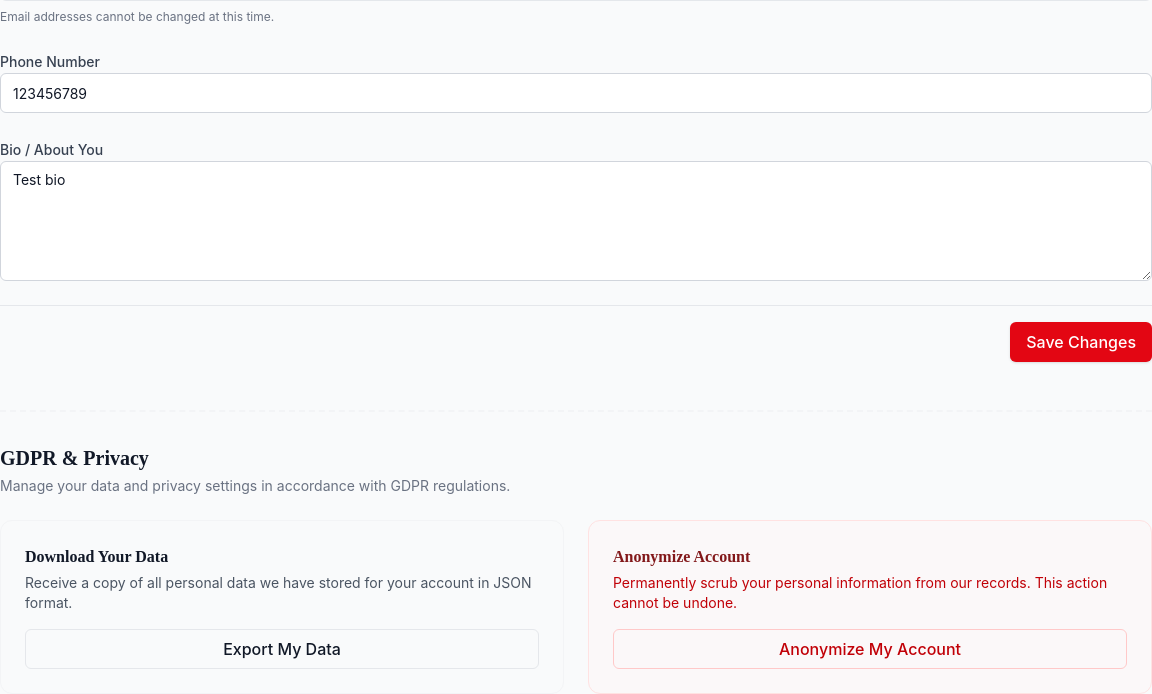
Test case: ProfileForm › should handle GDPR anonymization error
(page scrolled)
Click the button "Anonymize My Account" at x=870, y=649, box [613,629,1127,669]
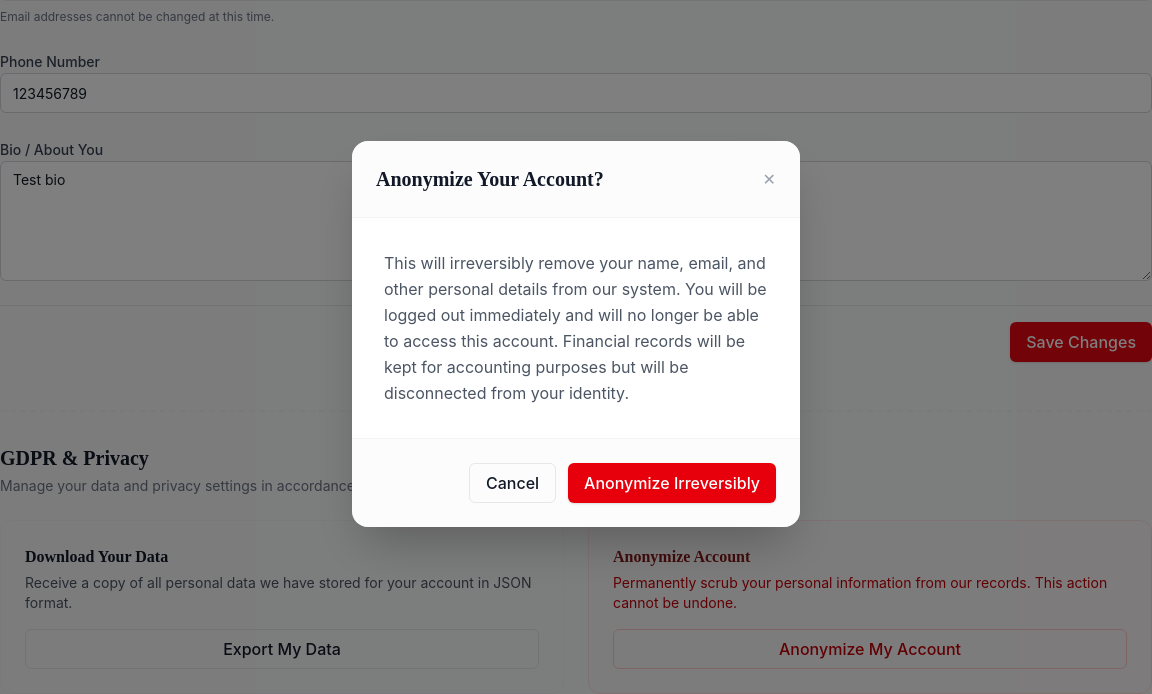
Click the button "Anonymize Irreversibly" at x=672, y=483, box [568,463,776,503]
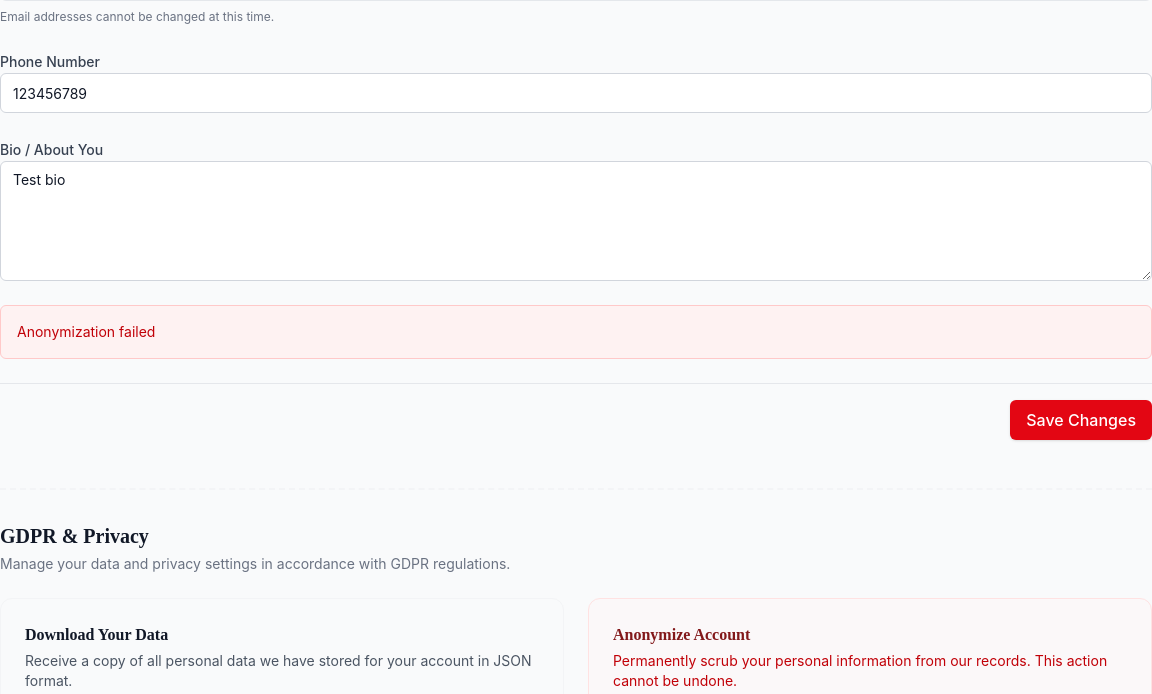
Check: the text "Anonymization failed" is shown, box [0,305,1151,359]
